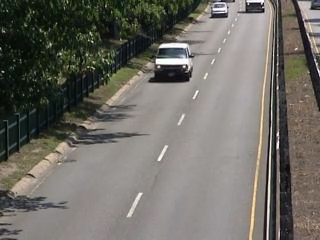car: (209, 3, 230, 19)
truck: (152, 41, 195, 84), (244, 1, 267, 13)
